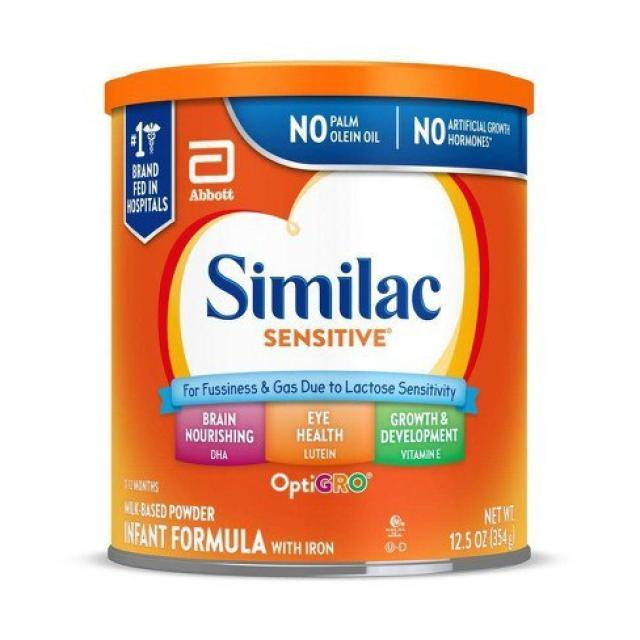lotion-moisture: (108, 87, 528, 562)
